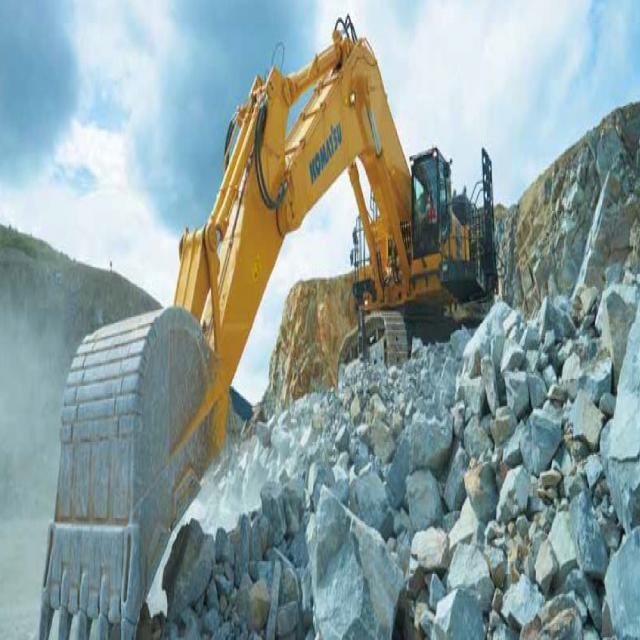C_E: (35, 6, 488, 634)
